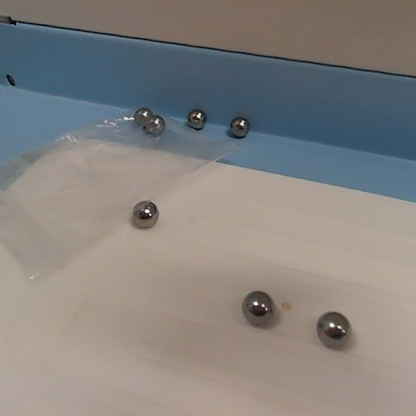ironball: (309, 307, 357, 352), (237, 288, 278, 329), (126, 195, 160, 230), (223, 110, 254, 140), (182, 105, 212, 132), (141, 111, 166, 140), (130, 102, 150, 123)
